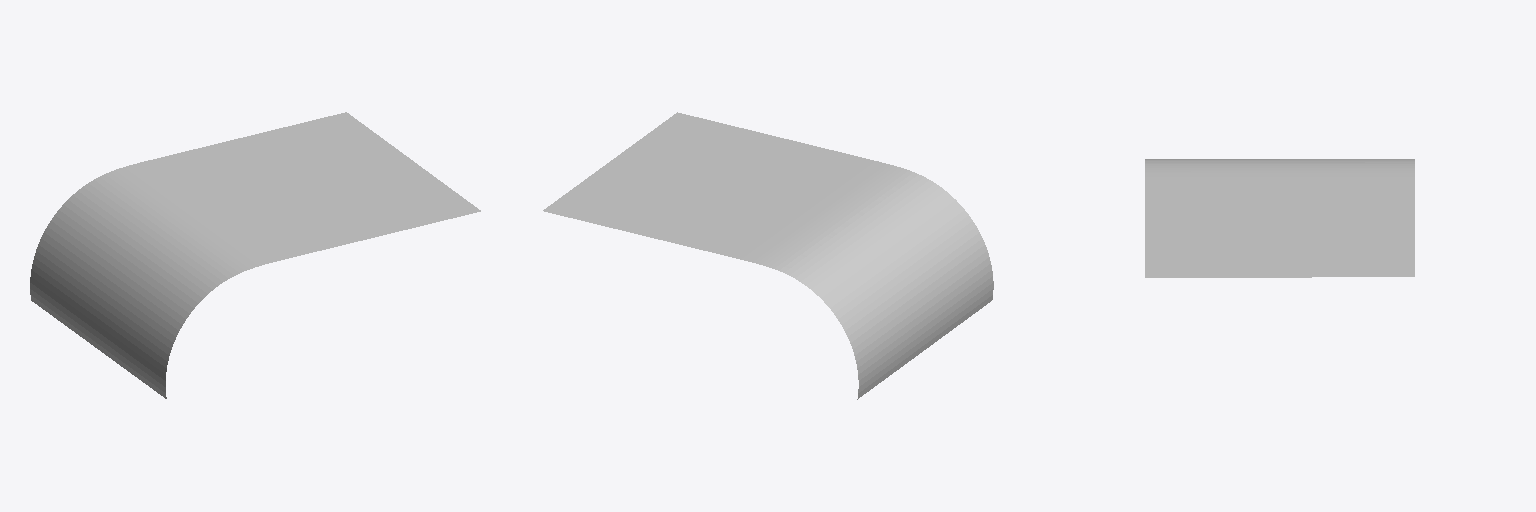
The model's file is CurvePaper_000054.obj.
3 views of the same model, side by side, from view 1: azimuth 30°, elevation 25°; view 2: azimuth 150°, elevation 25°; view 3: azimuth 270°, elevation 25° (orthographic).
Parts seen in each view (by area): view 1: Plane; view 2: Plane; view 3: Plane.
Boxes of the visible parts, box(x1,y1,x2,y2) form: Plane: box(30, 112, 480, 398); Plane: box(543, 112, 993, 399); Plane: box(1145, 159, 1414, 277).
Bounding box in the file's own units: 3.06 × 1.03 × 2.26.